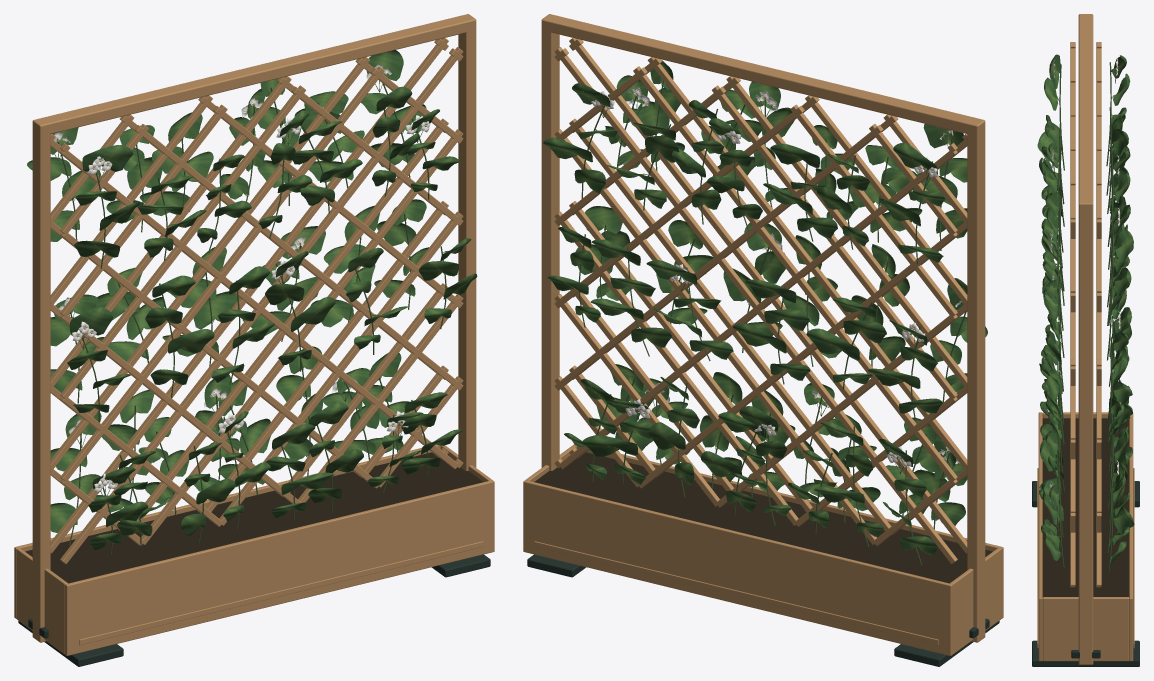
The model's file is botanicalDivider-5.glb.
3 renders of one model, left to right at view 1: azimuth 30°, elevation 25°; view 2: azimuth 150°, elevation 25°; view 3: azimuth 270°, elevation 25°, orthographic. The views are drawn at different scales.
Visible parts, largest first — view 1: Botanical_frame_finish, Botanical_living_foliage, Botanical_recessed_soil, Botanical_connected_stems, Botanical_warm_white_petals, Botanical_powdercoat, Botanical_leaf_midribs; view 2: Botanical_frame_finish, Botanical_living_foliage, Botanical_recessed_soil, Botanical_connected_stems, Botanical_warm_white_petals, Botanical_powdercoat, Botanical_leaf_midribs; view 3: Botanical_frame_finish, Botanical_living_foliage, Botanical_recessed_soil, Botanical_connected_stems, Botanical_powdercoat, Botanical_leaf_midribs, Botanical_warm_white_petals.
Boxes of the visible parts, <box> form: Botanical_frame_finish: <box>14,14,494,655</box>; Botanical_living_foliage: <box>27,50,477,550</box>; Botanical_recessed_soil: <box>25,452,483,583</box>; Botanical_connected_stems: <box>54,81,446,554</box>; Botanical_warm_white_petals: <box>54,64,430,492</box>; Botanical_powdercoat: <box>18,554,490,666</box>; Botanical_leaf_midribs: <box>51,52,473,541</box>; Botanical_frame_finish: <box>523,14,1003,655</box>; Botanical_living_foliage: <box>543,60,987,555</box>; Botanical_recessed_soil: <box>534,452,992,583</box>; Botanical_connected_stems: <box>578,80,967,565</box>; Botanical_warm_white_petals: <box>591,87,962,466</box>; Botanical_powdercoat: <box>527,554,999,666</box>; Botanical_leaf_midribs: <box>558,63,966,545</box>; Botanical_frame_finish: <box>1037,14,1134,664</box>; Botanical_living_foliage: <box>1037,54,1134,563</box>; Botanical_recessed_soil: <box>1042,418,1129,597</box>; Botanical_connected_stems: <box>1052,62,1118,571</box>; Botanical_powdercoat: <box>1032,481,1139,666</box>; Botanical_leaf_midribs: <box>1039,63,1130,551</box>; Botanical_warm_white_petals: <box>1049,57,1121,501</box>.
Bounding box in the file's own units: 2 × 2.3 × 0.48.
